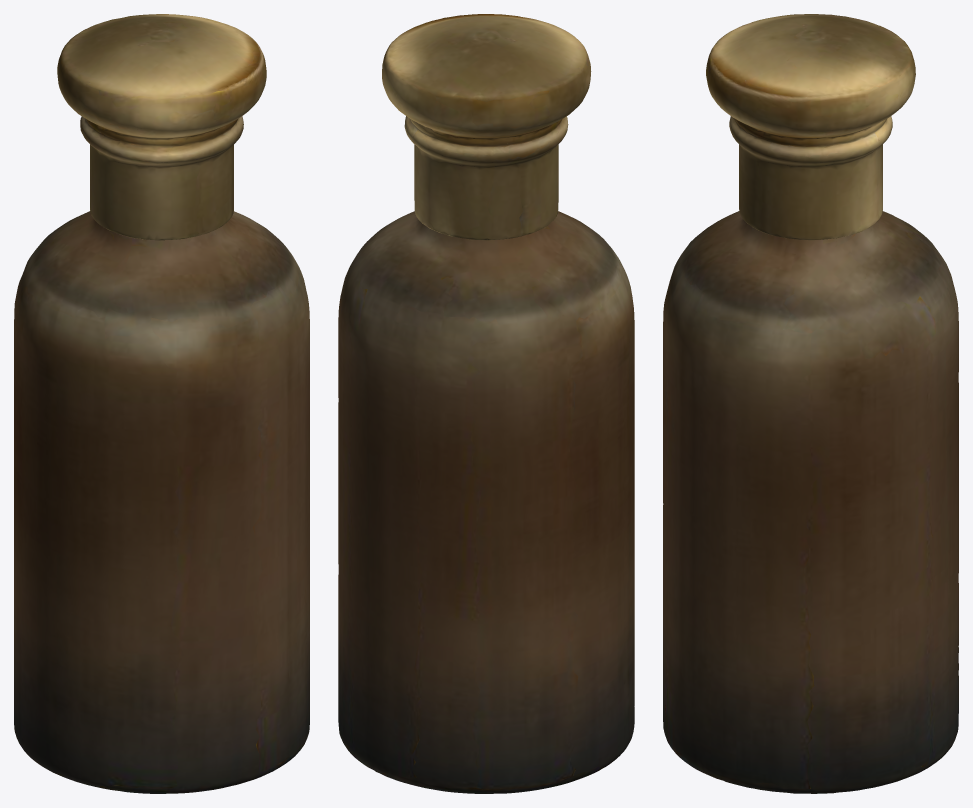
File: trellis2-image-to-3d.glb
3 renders of one model, left to right at view 1: azimuth 30°, elevation 25°; view 2: azimuth 150°, elevation 25°; view 3: azimuth 270°, elevation 25°, orthographic.
Bounding box in the file's own units: 0.3843 × 1 × 0.3838.
1 material, 1 textured.
